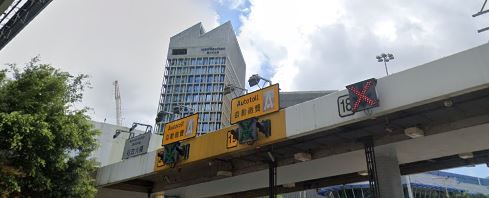Autotoll: (228, 80, 282, 124), (158, 110, 202, 142)
